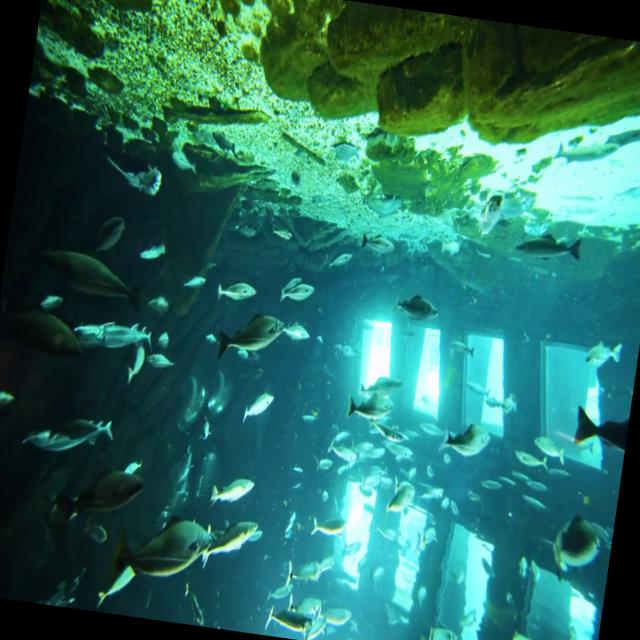fish: (28, 242, 150, 316), (114, 502, 212, 588), (56, 462, 140, 528), (24, 410, 119, 468), (198, 509, 264, 578), (66, 314, 157, 361), (214, 306, 280, 368), (439, 412, 494, 466), (208, 464, 260, 510), (342, 393, 398, 427), (211, 273, 257, 310), (244, 388, 274, 426)
